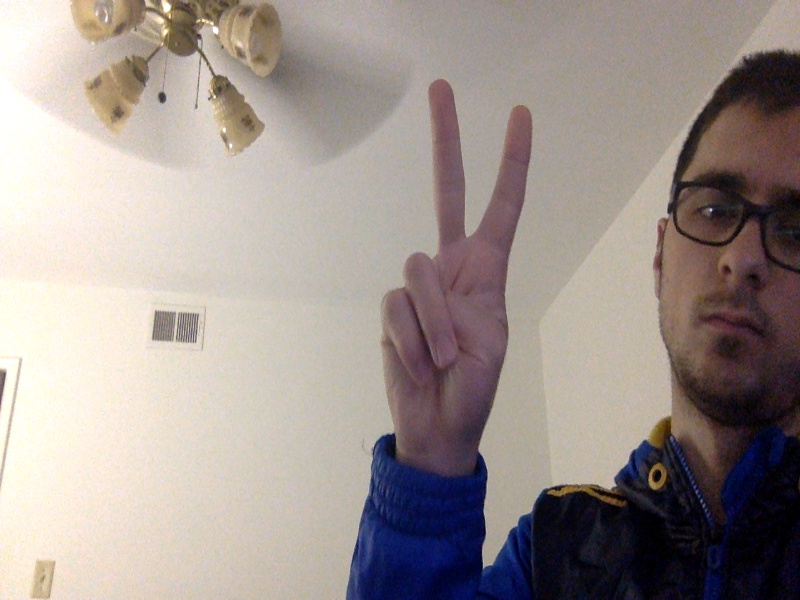2-hand: (376, 81, 533, 440)
